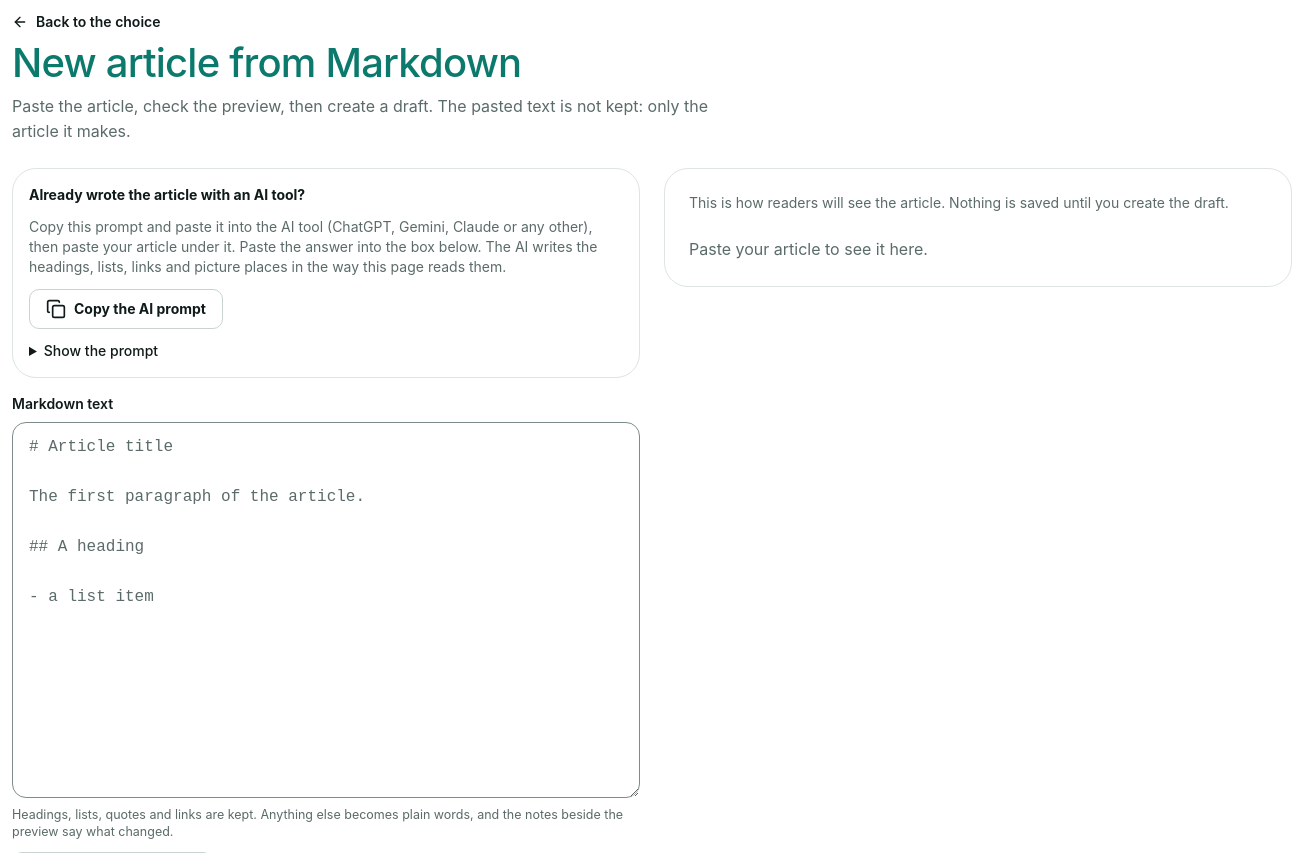
Test: BlogMarkdownFlow: the paste screen (ADR-172) › tells the admin when the browser would not copy
The width and height of the screenshot is (1292, 853).
Click the button "Copy the AI prompt" at (126, 309), box [29, 289, 223, 329]
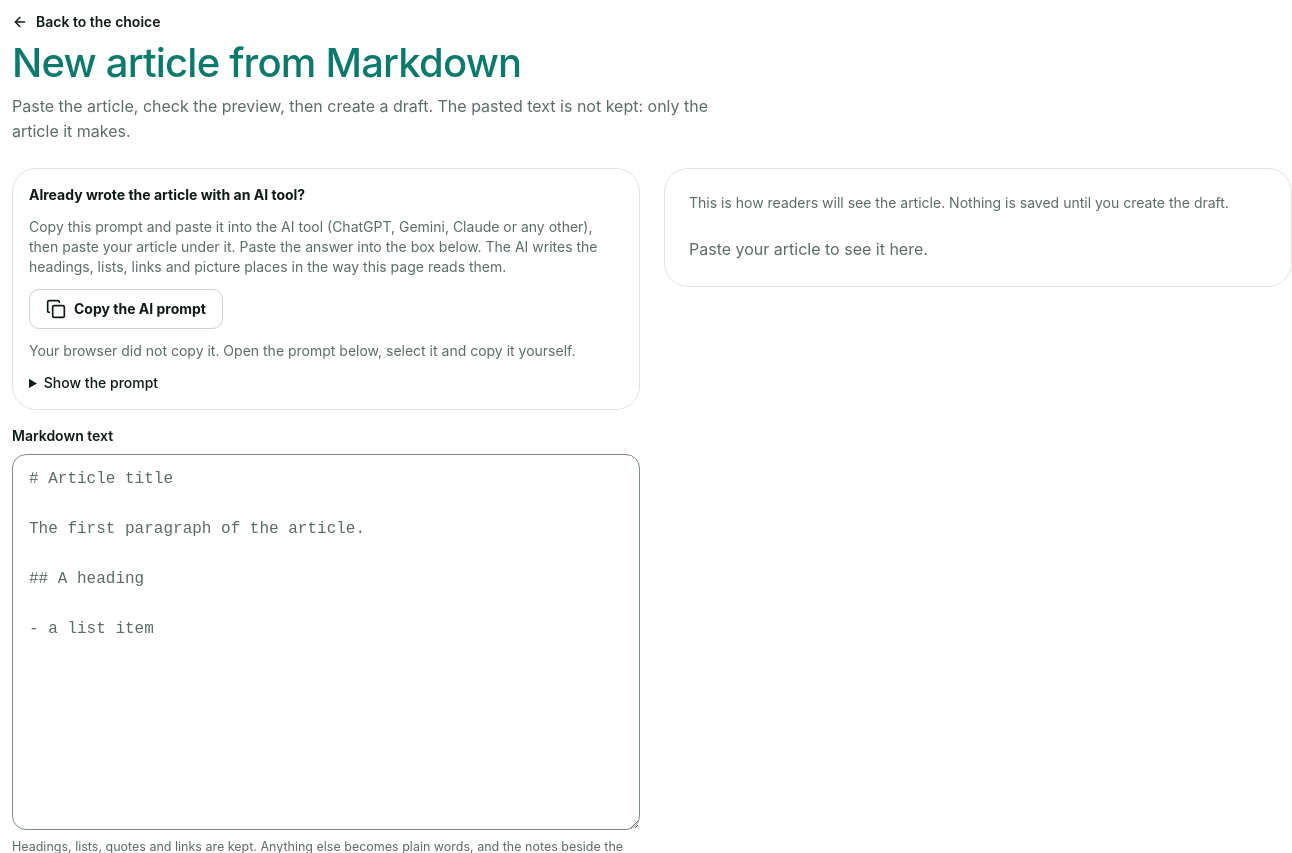
Expected: the text "did not copy it" is shown, [29, 342, 576, 359]
